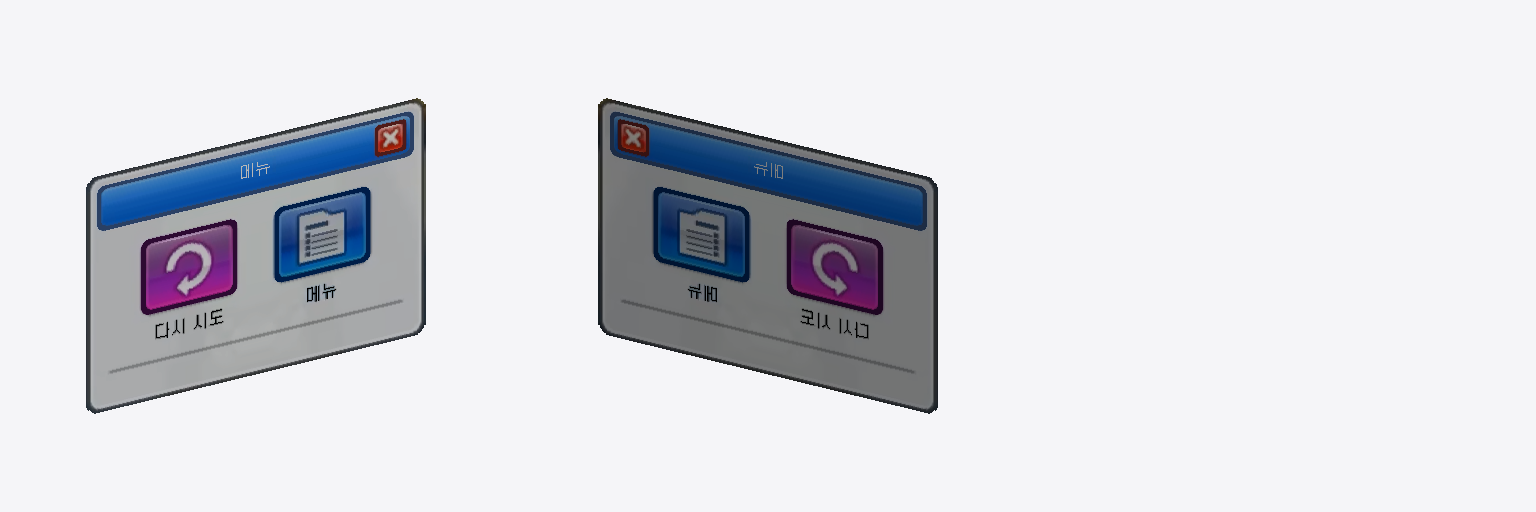
The picture shows the model from 3 angles: view 1: azimuth 30°, elevation 25°; view 2: azimuth 150°, elevation 25°; view 3: azimuth 270°, elevation 25°; orthographic projection.
Parts seen in each view (by area): view 1: Plane; view 2: Plane; view 3: none.
Part boxes in pixels (left/top/right/bottom): Plane: left=86, top=98, right=425, bottom=413; Plane: left=598, top=98, right=937, bottom=413.
Bounding box in the file's own units: 0.6 × 0.4 × 0.
Materials: 1 (1 with a texture image).